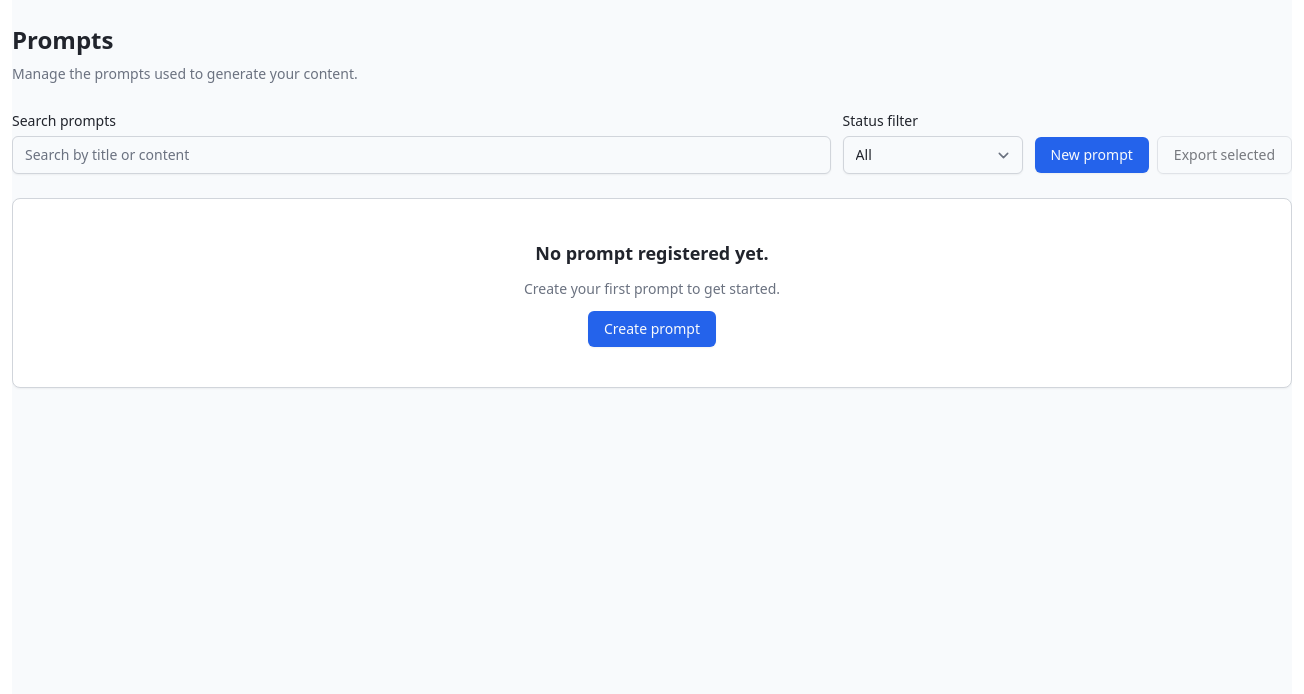
Test: PromptsPage › validates required title before submitting
Click the button "New prompt": [1092, 155] box [1035,137,1149,173]
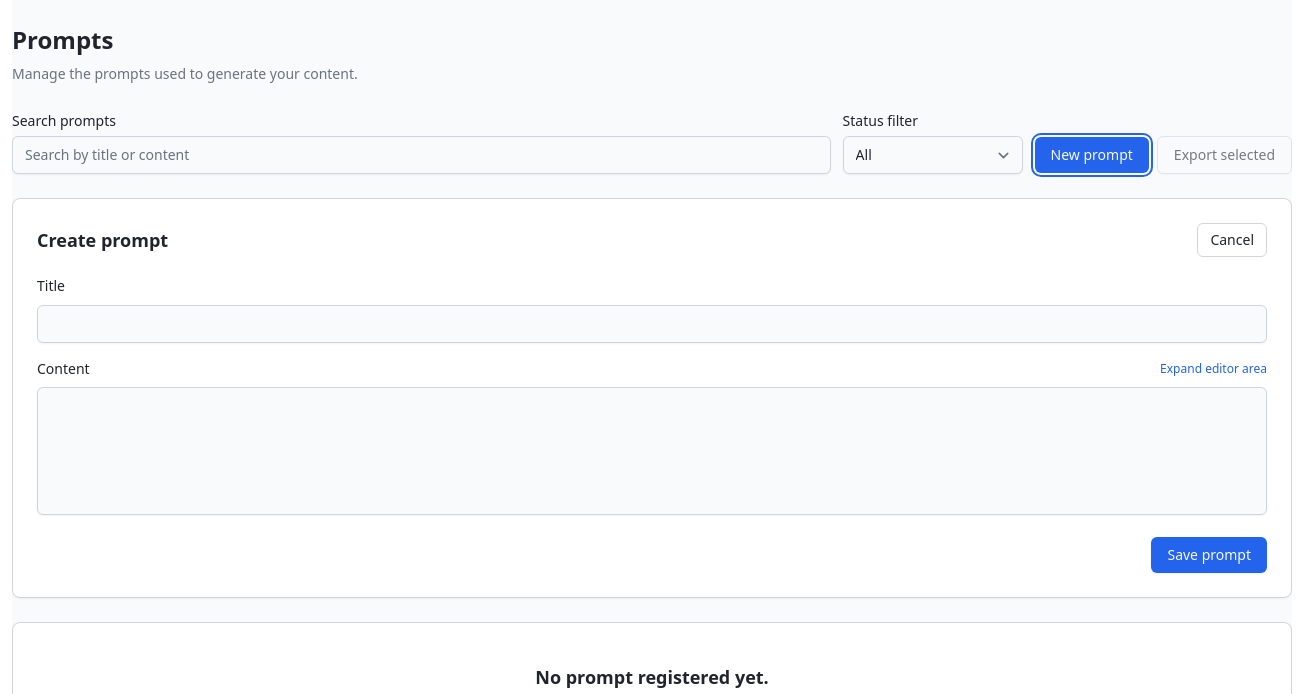
In the text box labelled "Content": [652, 451] box [37,387,1267,515], type "Explain the new onboarding flow."
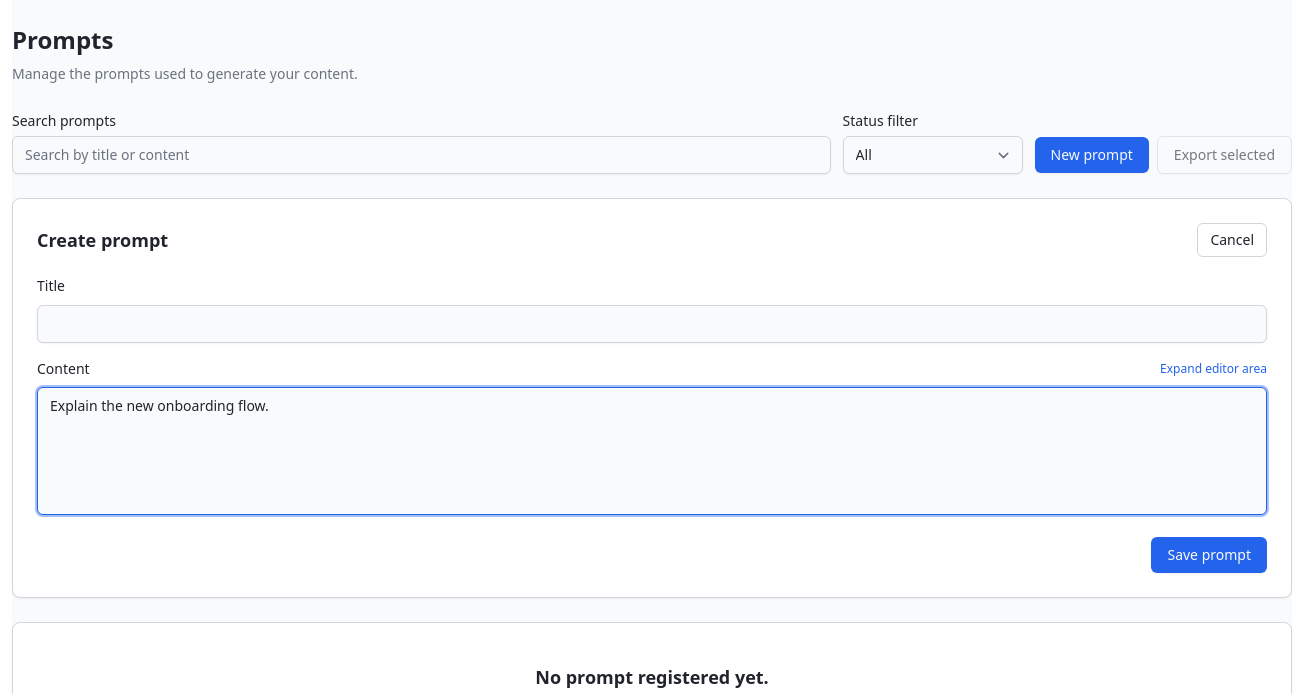
Click the button "Save prompt": [1209, 555] box [1152,537,1267,573]
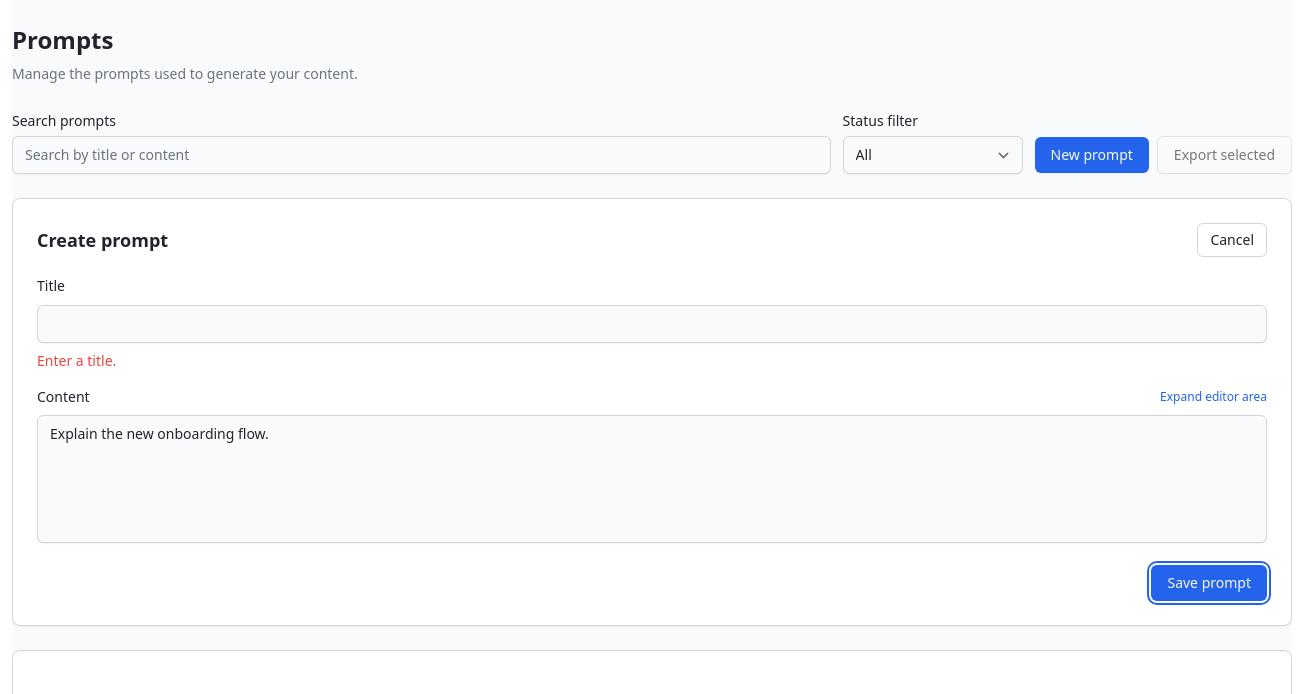
expect the text "Enter a title." is shown: met, box [37,351,116,370]
